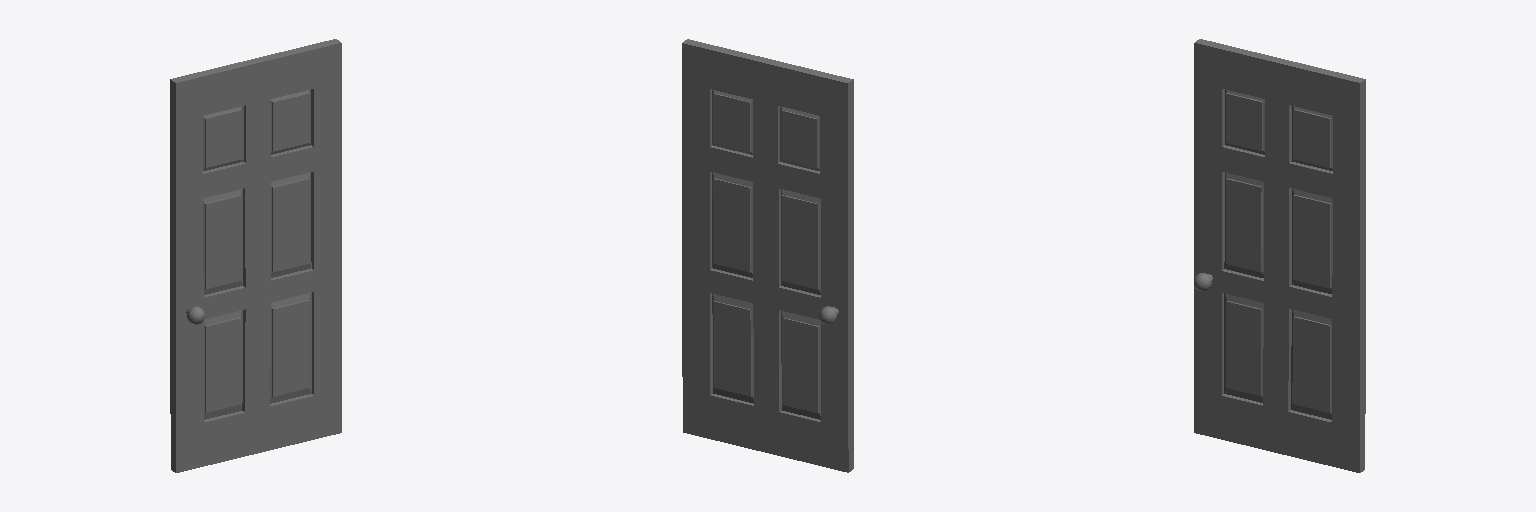
File: puerta.obj
3 renders of one model, left to right at view 1: azimuth 30°, elevation 25°; view 2: azimuth 150°, elevation 25°; view 3: azimuth 330°, elevation 25°, orthographic.
Visible parts, largest first — view 1: puerta:Mesh; view 2: puerta:Mesh; view 3: puerta:Mesh.
Part boxes in pixels (x1,y1,x2,y2): puerta:Mesh: (170, 39, 341, 472); puerta:Mesh: (682, 39, 853, 472); puerta:Mesh: (1194, 39, 1365, 472).
Bounding box in the file's own units: 2.81 × 6.3 × 0.7728.